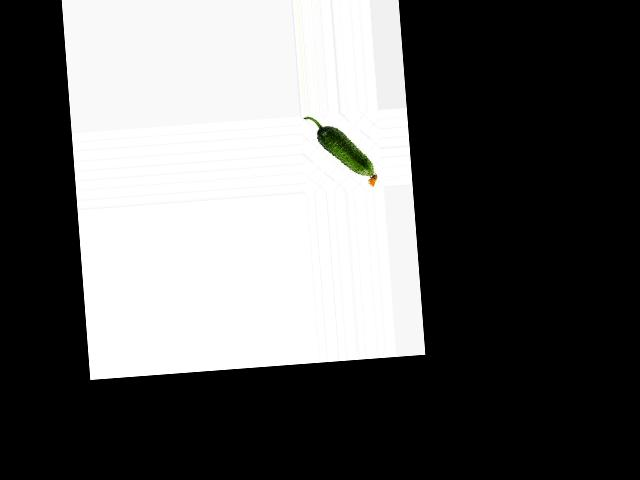cucumber: (303, 112, 377, 192)
